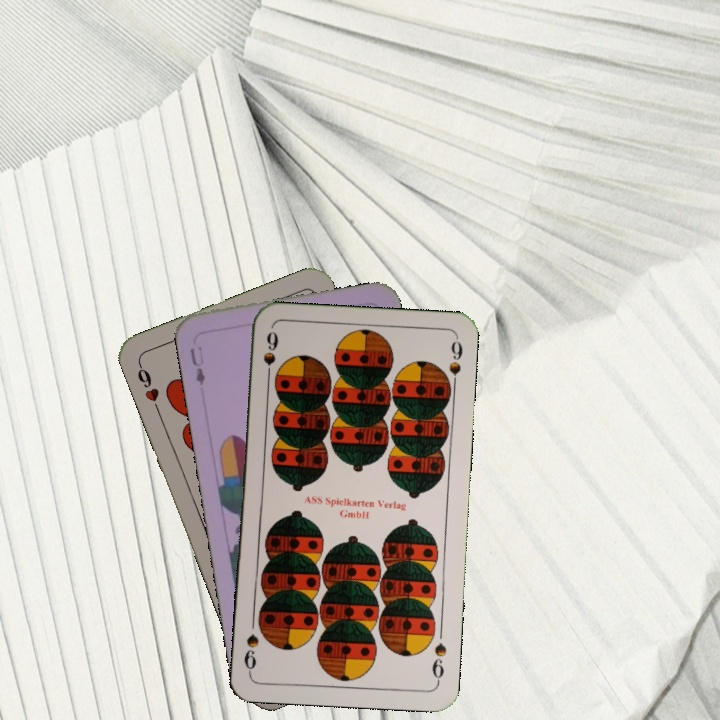EU: (186, 343, 208, 388)
H9: (133, 359, 163, 416)
S9: (259, 327, 281, 386), (428, 638, 449, 686)
